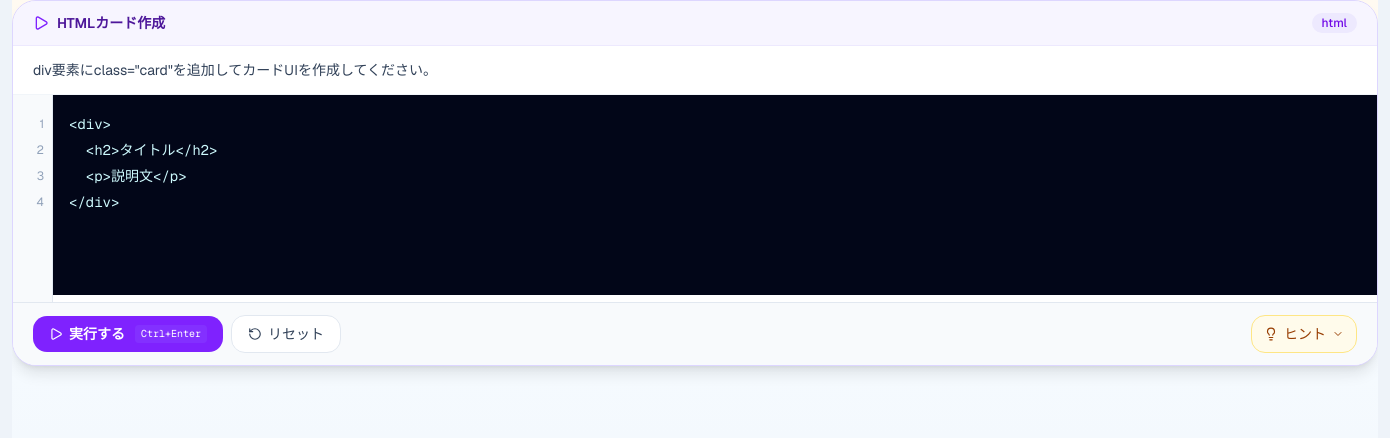
Test: CodePlayground › hides hint on second click
The image size is (1390, 438).
Click the button "ヒント".
click(1304, 334)  # box top-left (1251, 315), bottom-right (1357, 353)
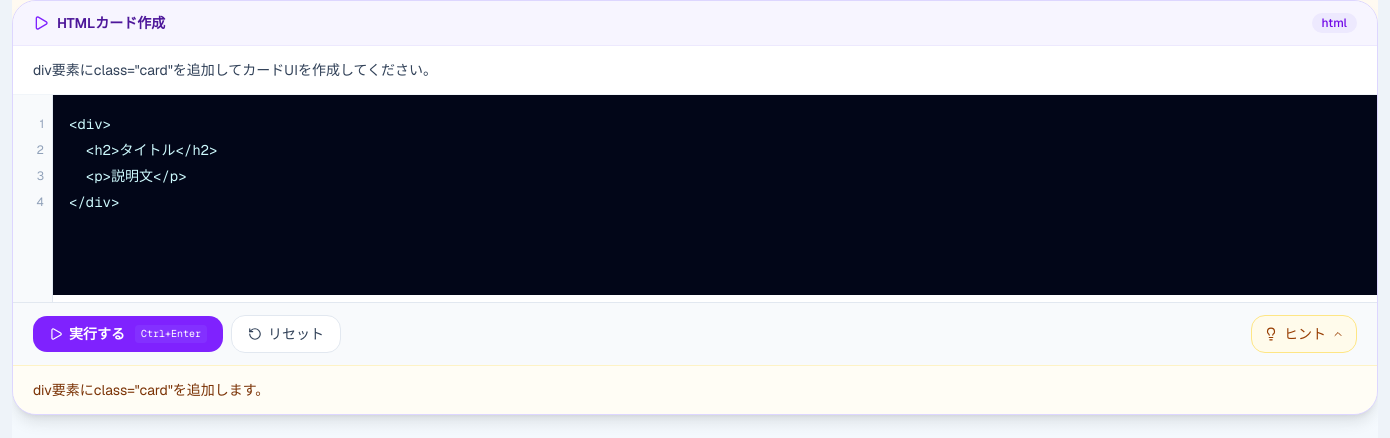
Now the text "div要素にclass=\"card\"を追加します。" is shown, box top-left (33, 381), bottom-right (269, 399)
Click the button "ヒント".
click(1304, 334)  # box top-left (1251, 315), bottom-right (1357, 353)
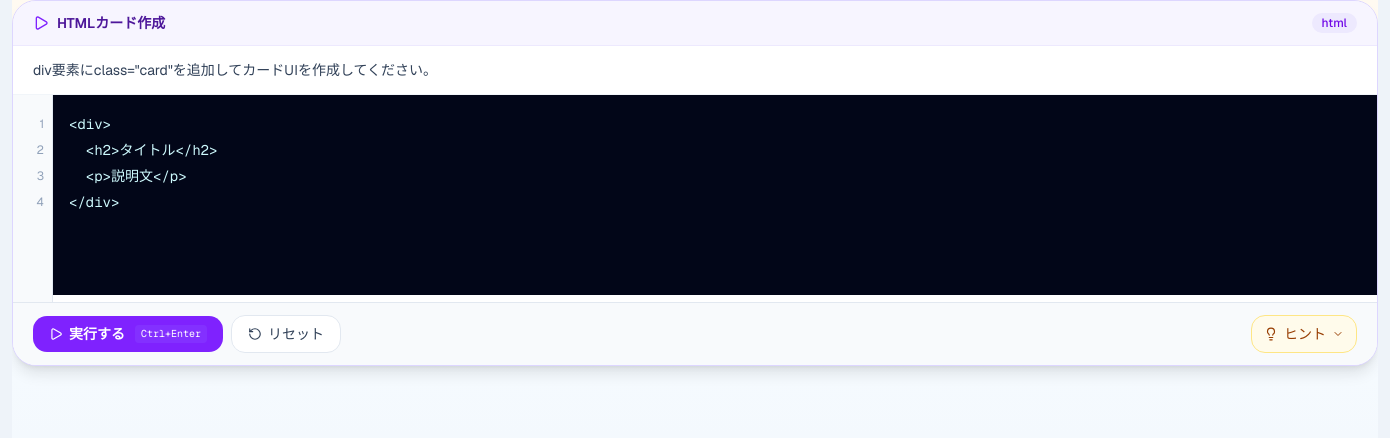
Now the text "div要素にclass=\"card\"を追加します。" is gone
